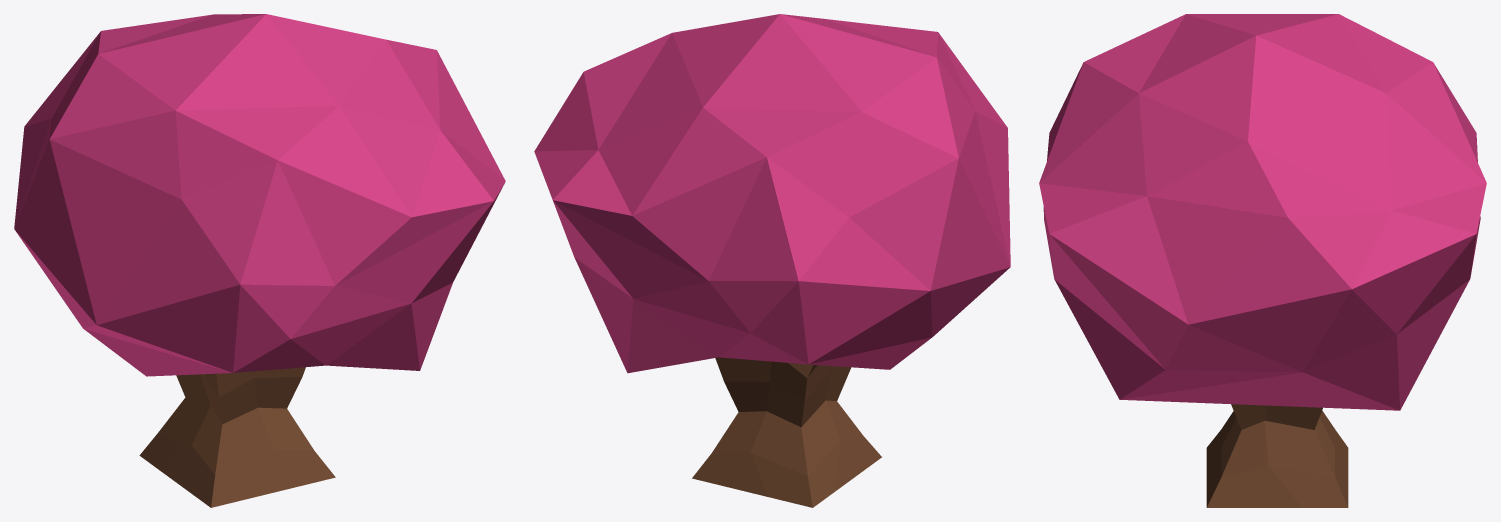
The model's file is Tree_33_Pink.fbx.
The picture shows the model from 3 angles, left to right: view 1: azimuth 30°, elevation 25°; view 2: azimuth 150°, elevation 25°; view 3: azimuth 270°, elevation 25°; orthographic projection. The views are drawn at different scales.
Parts seen in each view (by area): view 1: Tree_33_Pink_Part_1, Tree_33_Pink_Part_2; view 2: Tree_33_Pink_Part_1, Tree_33_Pink_Part_2; view 3: Tree_33_Pink_Part_1, Tree_33_Pink_Part_2.
Part boxes in pixels (left/top/right/bottom): Tree_33_Pink_Part_1: left=14, top=14, right=505, bottom=376; Tree_33_Pink_Part_2: left=139, top=367, right=335, bottom=507; Tree_33_Pink_Part_1: left=534, top=14, right=1010, bottom=373; Tree_33_Pink_Part_2: left=692, top=357, right=881, bottom=507; Tree_33_Pink_Part_1: left=1039, top=14, right=1486, bottom=410; Tree_33_Pink_Part_2: left=1206, top=404, right=1348, bottom=507.
Bounding box in the file's own units: 762 × 812 × 731.
